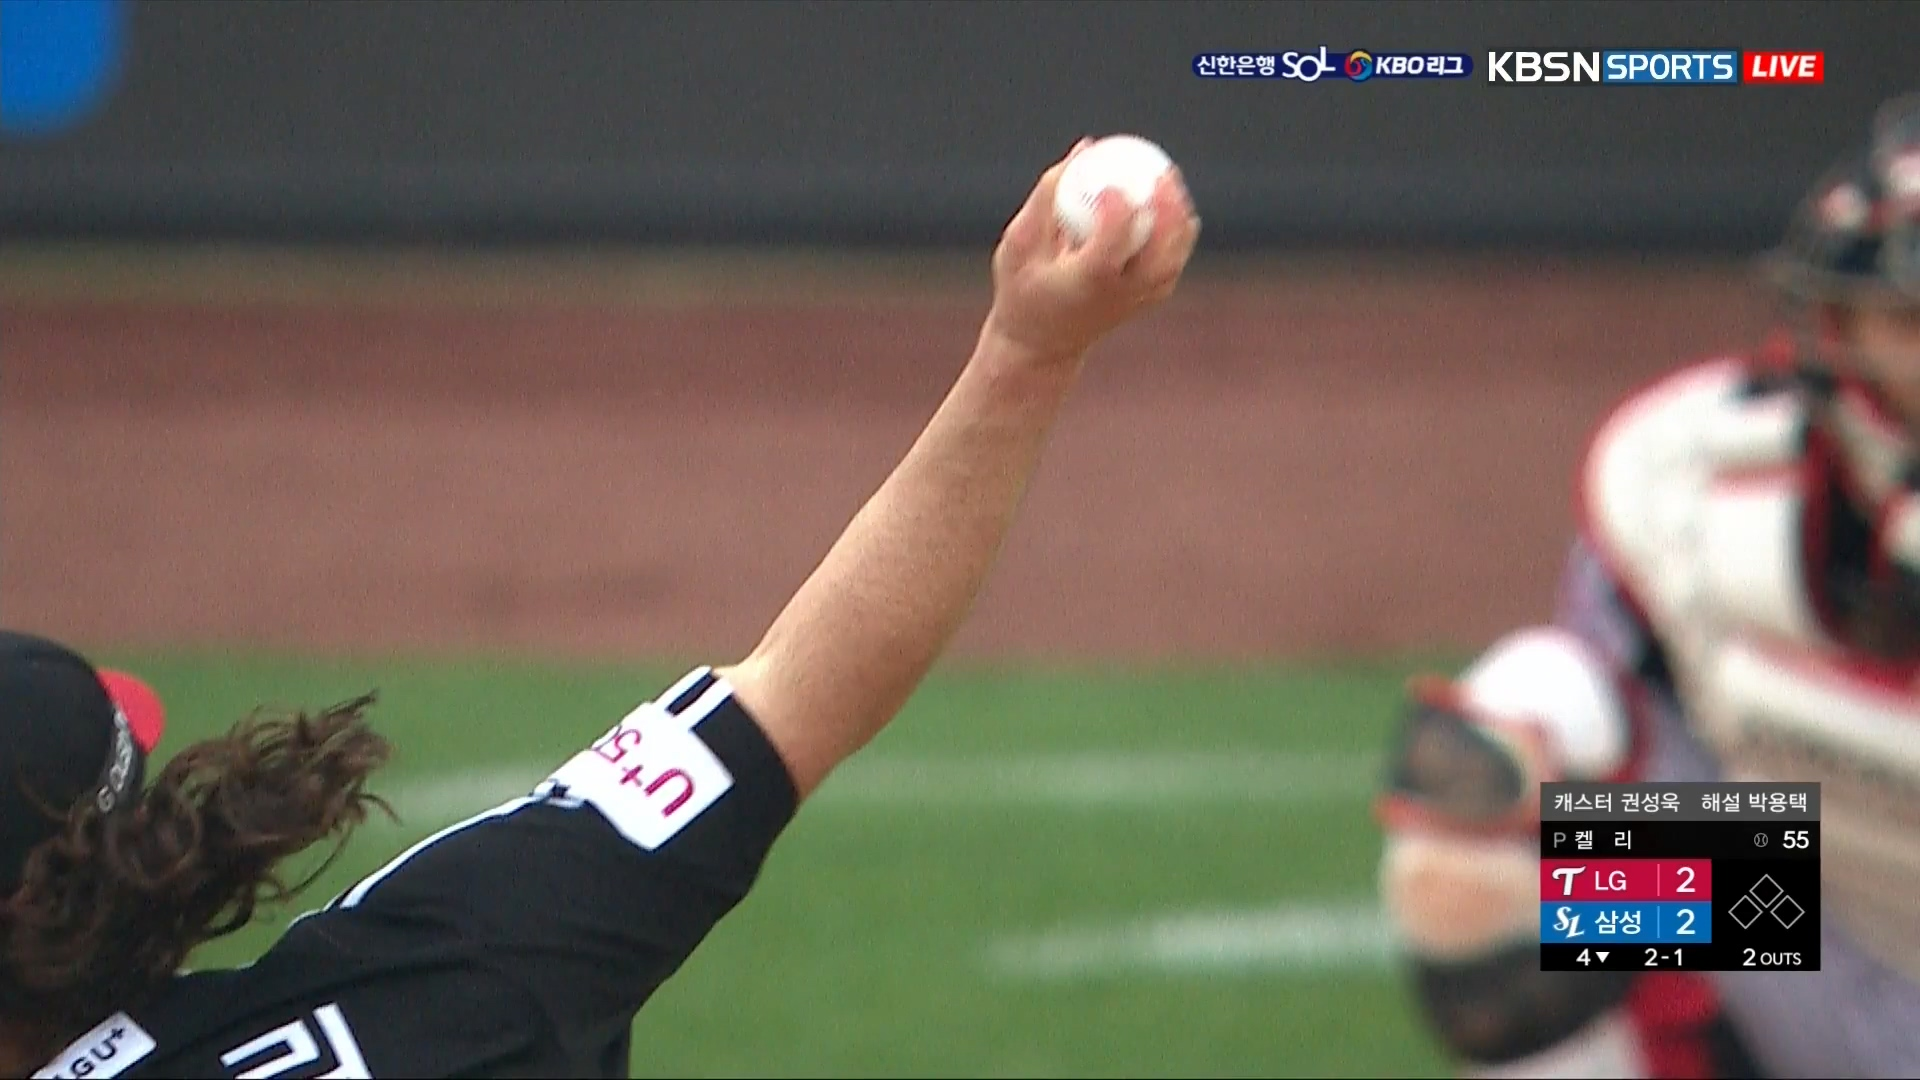zoomin_hand: (764, 123, 1207, 822)
